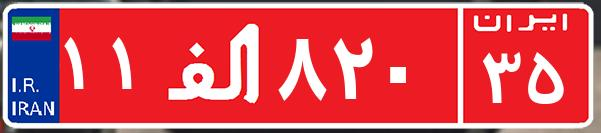0: (385, 28, 445, 110)
1: (57, 26, 110, 107), (110, 28, 158, 105)
2: (330, 28, 385, 110)
3: (475, 38, 525, 113)
5: (525, 38, 570, 115)
8: (273, 28, 330, 110)
الف: (158, 15, 273, 115)
